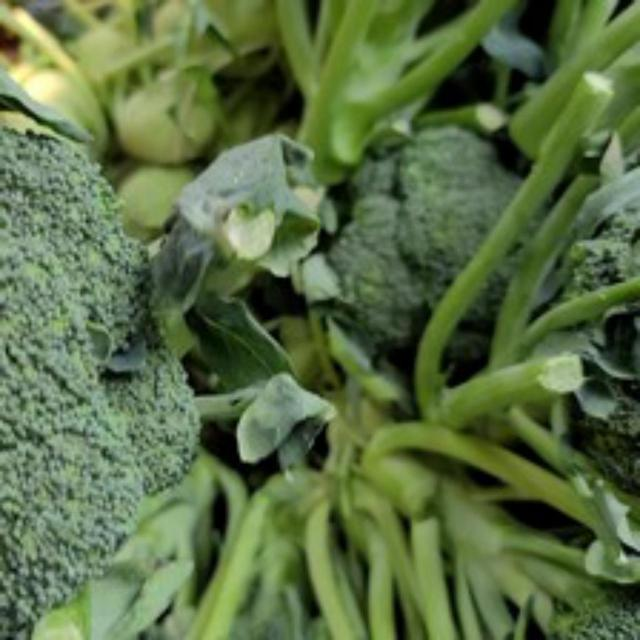broccoli: (0, 111, 216, 640)
